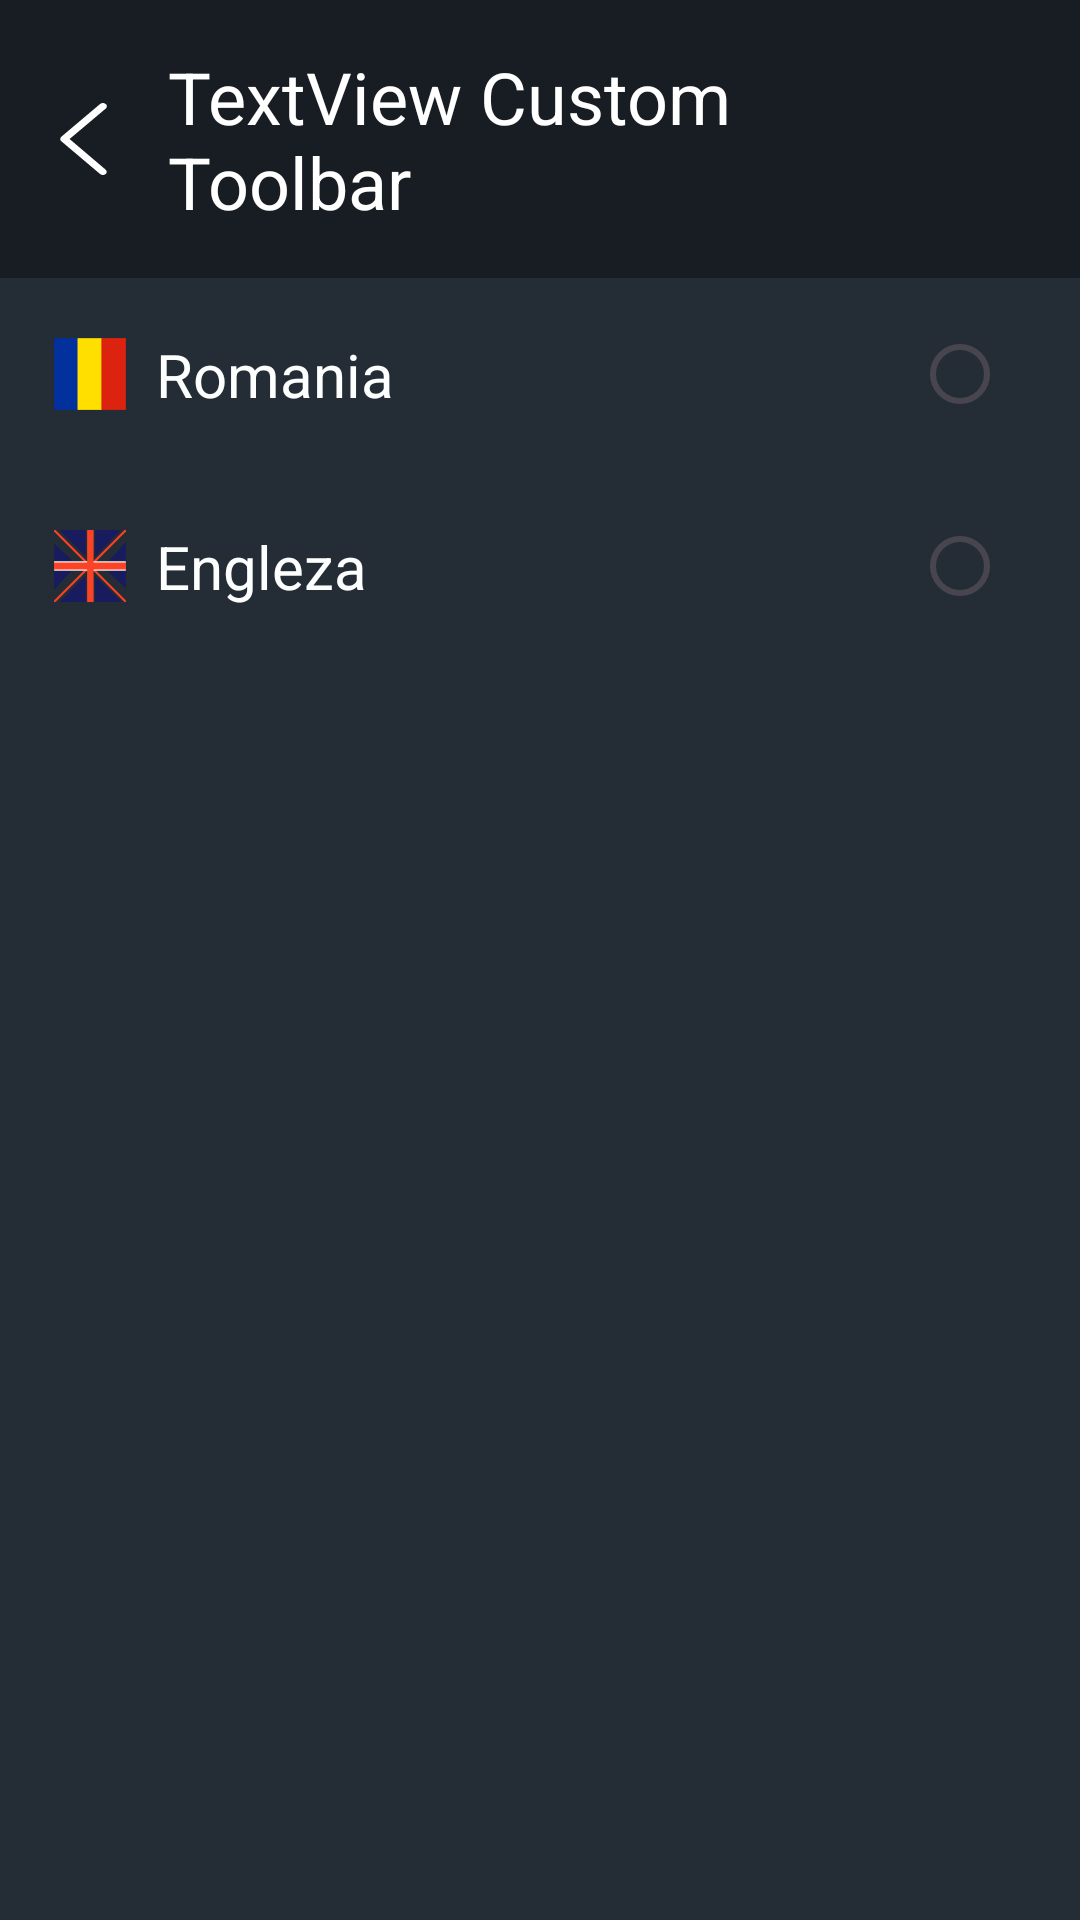

Where to tap for icons on this 1080x1920 app screen, as (x=x, y=y):
flag uk: (x=90, y=566)
left: (x=83, y=139)
